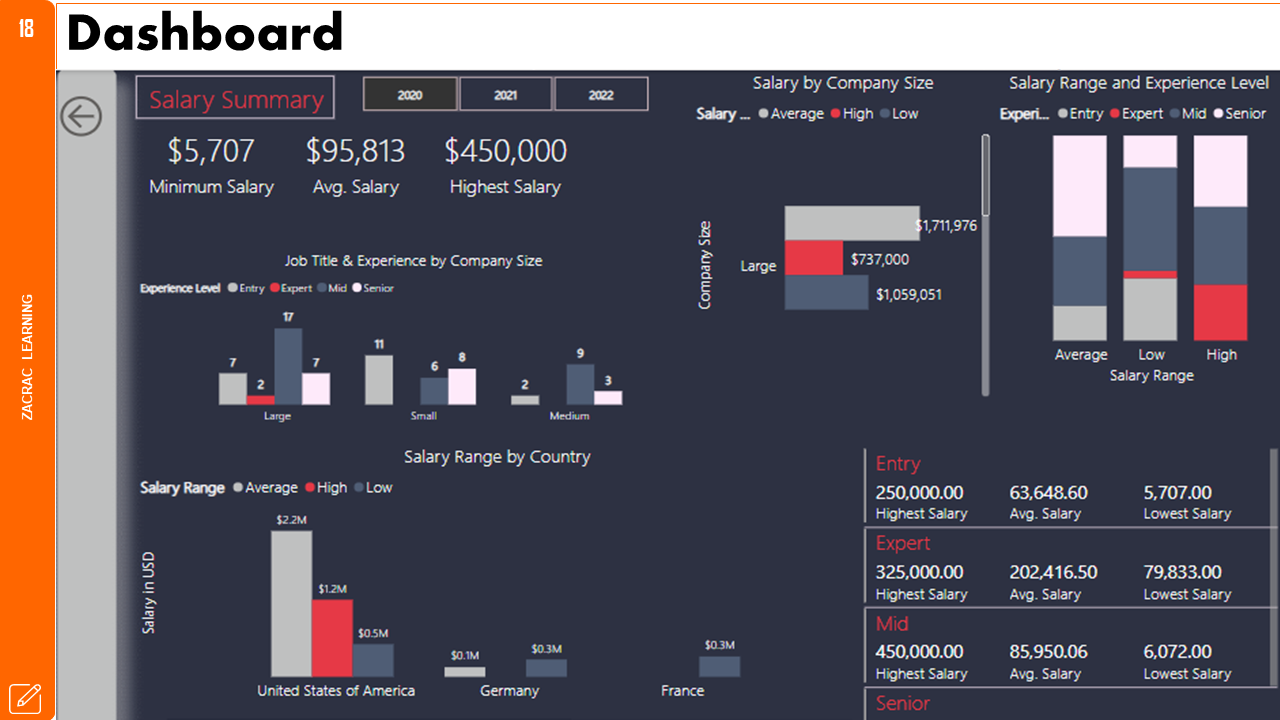

This screenshot's page, from the dashboard's own definition file:
{"tool":"powerbi","page":{"name":"Salary Summary","canvas":[1280,720],"ordinal":1},"visuals":[{"type":"card","fields":{"Values":["Max(ds_salaries.salary_in_usd)"]},"box":[394.6,52.8,151.7,93.5],"z":0,"group":"g1"},{"type":"textbox","box":[85,5.7,206.9,46.8],"z":0},{"type":"card","fields":{"Values":["Avg(ds_salaries.salary_in_usd)"]},"box":[240.1,52.8,148.8,93.5],"z":1000,"group":"g1"},{"type":"clusteredBarChart","title":"Salary by Company Size ","fields":{"Category":["ds_salaries.company_size"],"Y":["Sum(ds_salaries.salary_in_usd)"],"Series":["ds_salaries.Salary_range"]},"box":[665,0,315.4,359.6],"z":1000},{"type":"card","fields":{"Values":["Min(ds_salaries.salary_in_usd)"]},"box":[85.6,52.8,157.3,93.5],"z":2000,"group":"g1"},{"type":"hundredPercentStackedColumnChart","title":"Salary Range and Experience Level","fields":{"Category":["ds_salaries.Salary_range"],"Series":["ds_salaries.experience_level"],"Y":["Sum(ds_salaries.salary_in_usd)"]},"box":[980.3,0,299.7,346.8],"z":2000},{"type":"multiRowCard","fields":{"Values":["Experience_Level_Salary.experience_level","Max(Experience_Level_Salary.Highest_Salary)","Avg(Experience_Level_Salary.Avg_Salary)","Min(Experience_Level_Salary.Lowest_Salary)"]},"box":[839.1,406.7,440.9,309.7],"z":3000},{"type":"clusteredColumnChart","title":"Salary Range by Country ","fields":{"Category":["country-codes.Country"],"Series":["ds_salaries.Salary_range"],"Y":["Sum(ds_salaries.salary_in_usd)"]},"box":[85.6,406.7,753.4,313.9],"z":4000},{"type":"slicer","fields":{"Values":["ds_salaries.work_year.Variation.Date Hierarchy.Year"]},"box":[296.8,0,346.8,51.4],"z":5000},{"type":"clusteredColumnChart","title":"Job Title & Experience by Company Size","fields":{"Category":["ds_salaries.company_size"],"Series":["ds_salaries.experience_level"],"Y":["CountNonNull(ds_salaries.job_title)"]},"box":[85.6,195.5,579.4,211.2],"z":6000},{"type":"group","id":"g1","title":"Group 1","box":[85.6,52.8,459.5,92.8],"z":7000},{"type":"actionButton","box":[0,0,55.7,99.9],"z":8000}]}

Visuals, with their boxes on the page's 1280x720 design canvas (x1, y1, x2, y2). These are canvas units, not pixel positions in the 1280x720 screenshot, which may show the page scaled, cropped or inside an application window:
card - Max(ds_salaries.salary_in_usd): x1=395 y1=53 x2=546 y2=146
textbox: x1=85 y1=6 x2=292 y2=52
card - Avg(ds_salaries.salary_in_usd): x1=240 y1=53 x2=389 y2=146
"Salary by Company Size " clusteredBarChart: x1=665 y1=0 x2=980 y2=360
card - Min(ds_salaries.salary_in_usd): x1=86 y1=53 x2=243 y2=146
"Salary Range and Experience Level" hundredPercentStackedColumnChart: x1=980 y1=0 x2=1280 y2=347
multiRowCard - Experience_Level_Salary.experience_level x Max(Experience_Level_Salary.Highest_Salary): x1=839 y1=407 x2=1280 y2=716
"Salary Range by Country " clusteredColumnChart: x1=86 y1=407 x2=839 y2=721
slicer - ds_salaries.work_year.Variation.Date Hierarchy.Year: x1=297 y1=0 x2=644 y2=51
"Job Title & Experience by Company Size" clusteredColumnChart: x1=86 y1=196 x2=665 y2=407
"Group 1" group: x1=86 y1=53 x2=545 y2=146
actionButton: x1=0 y1=0 x2=56 y2=100
